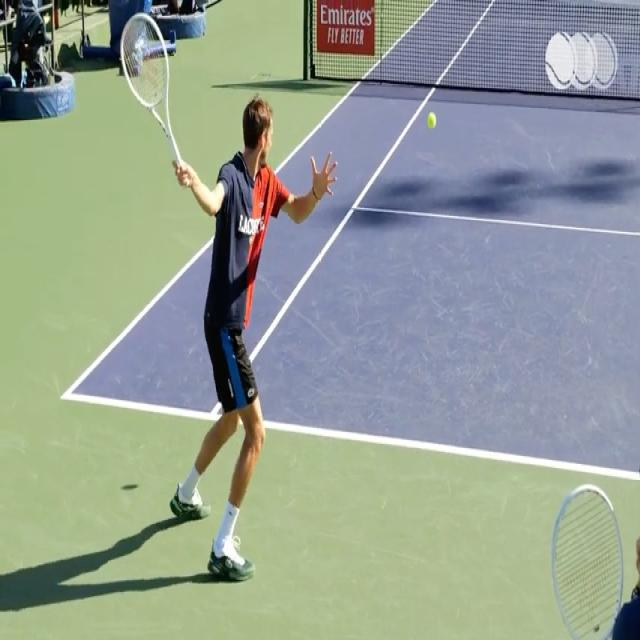forehand-ready: (121, 9, 334, 574)
